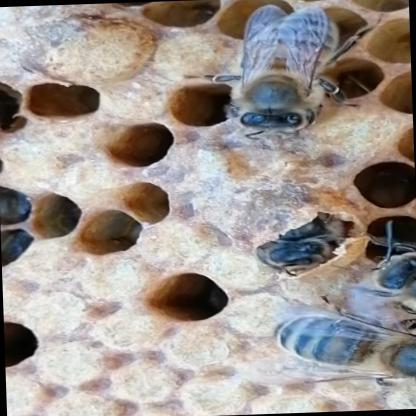bee: (207, 196, 416, 401), (210, 0, 368, 136)
